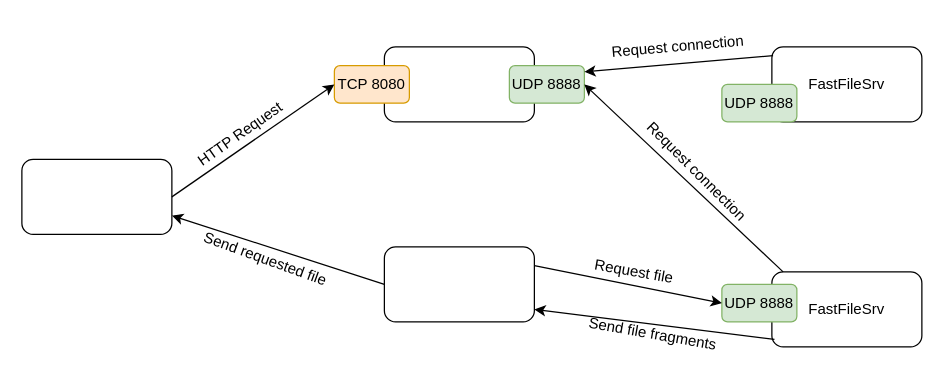
This 944x385 diagram has some shape labels left out. The shapes that lost their labels are listed below. From the top down, each one's centre as x and y in pixels, then its label:
At point 458,84: "HttpGw".
At point 96,196: "Cliente".
At point 458,284: "HttpGwWorker".
